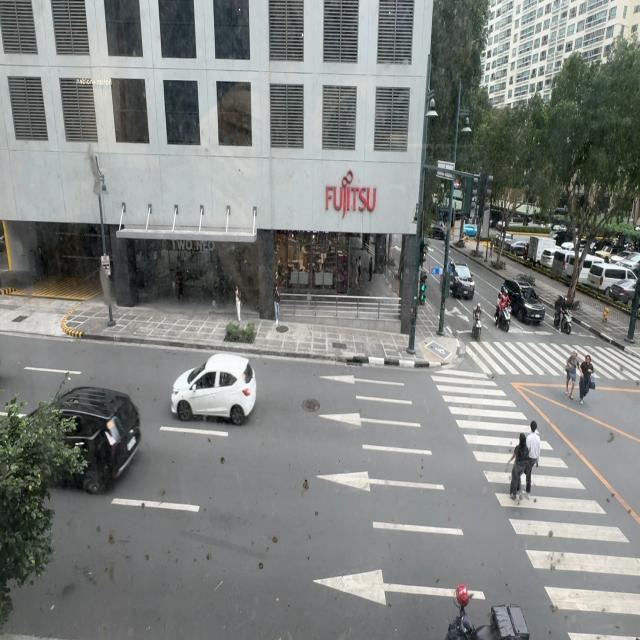crossing: (506, 432, 529, 502), (525, 421, 541, 495), (563, 341, 579, 393), (579, 354, 595, 403)
pedestrain: (273, 282, 281, 324)
